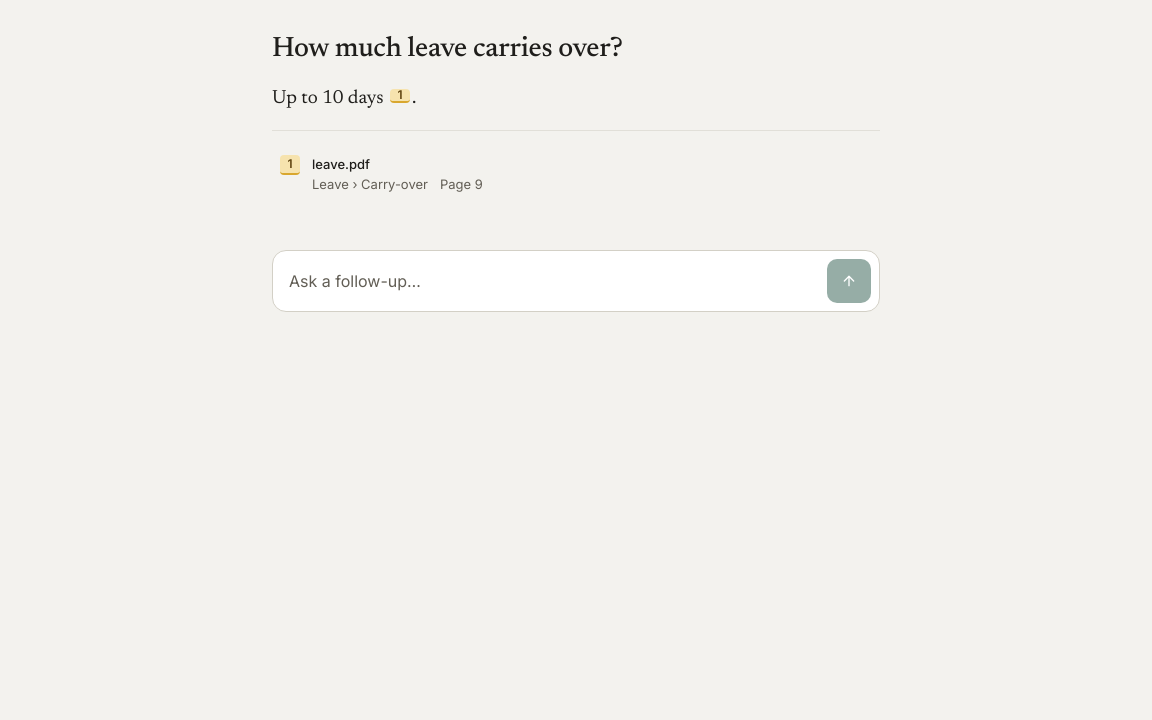
Test: The source of a Citation › opens from the Sources list too, and says when the Document was removed
Click the button "1 leave.pdf Leave › Carry-over Page 9". click: (341, 164)
box: top-left (272, 147), bottom-right (880, 202)
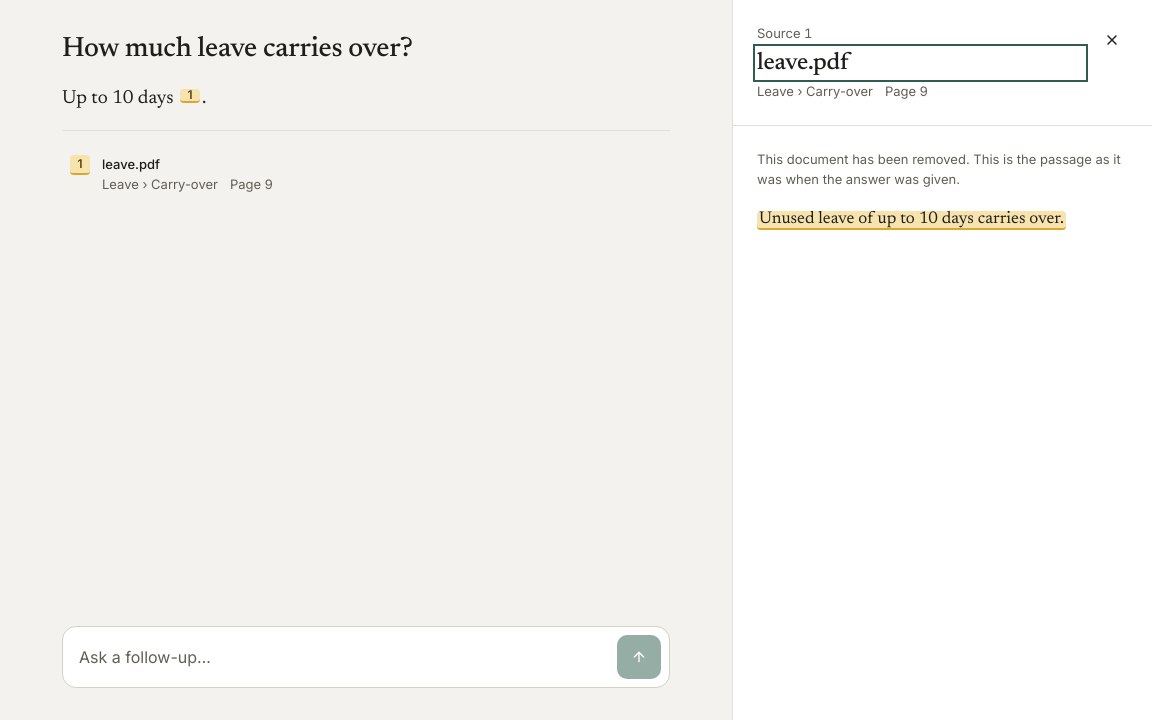
Check: the element "Source" shows "This document has been removed", box top-left (757, 151), bottom-right (970, 167)
Check: the text "Unused leave of up to 10 days carries over." is shown, box top-left (757, 211), bottom-right (1066, 230)
